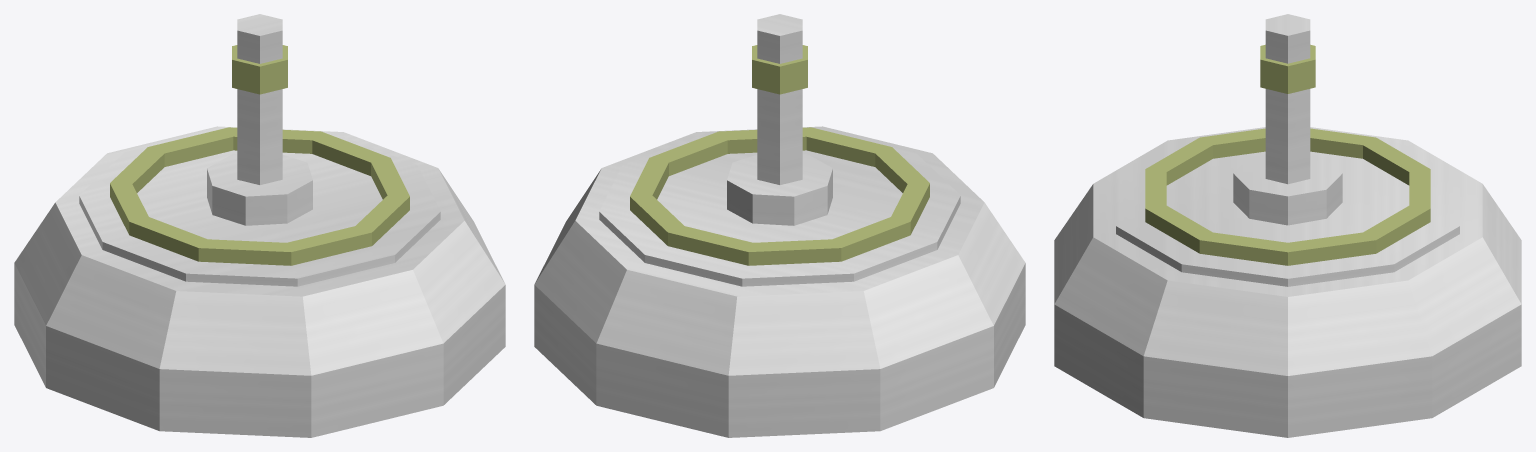
File: drop_beacon.obj
3 views of the same model, side by side, from view 1: azimuth 30°, elevation 25°; view 2: azimuth 150°, elevation 25°; view 3: azimuth 270°, elevation 25° (orthographic).
Visible parts, largest first — view 1: drop_beacon; view 2: drop_beacon; view 3: drop_beacon.
Boxes of the visible parts, x1,y1,x2,y2 form: drop_beacon: (14, 14, 505, 437); drop_beacon: (534, 14, 1025, 437); drop_beacon: (1054, 14, 1521, 437).
Bounding box in the file's own units: 0.72 × 0.5 × 0.6848.
